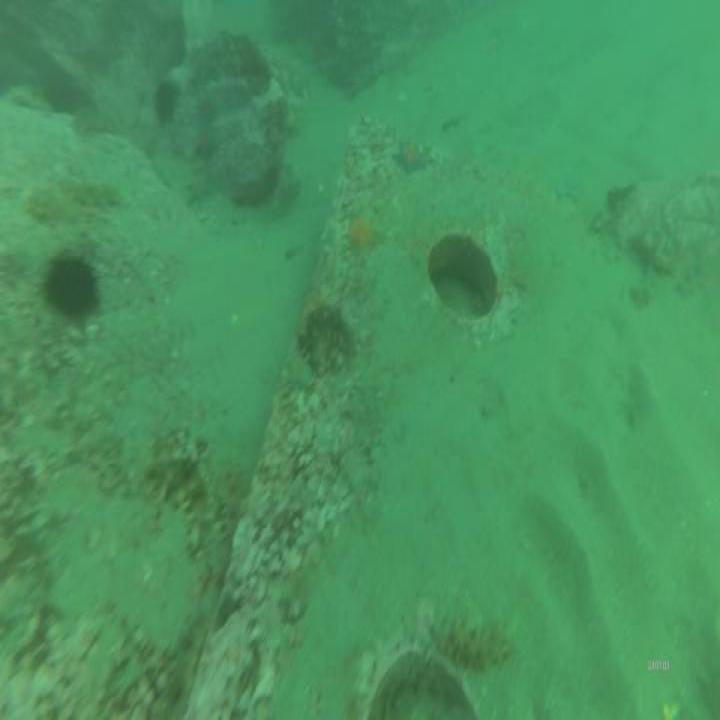echinus: (42, 249, 98, 323), (150, 75, 181, 126)
holothurian: (428, 606, 515, 672), (142, 441, 212, 519), (294, 295, 357, 354), (66, 174, 123, 210), (25, 183, 66, 226)
starfish: (343, 208, 386, 261), (391, 132, 430, 182)
